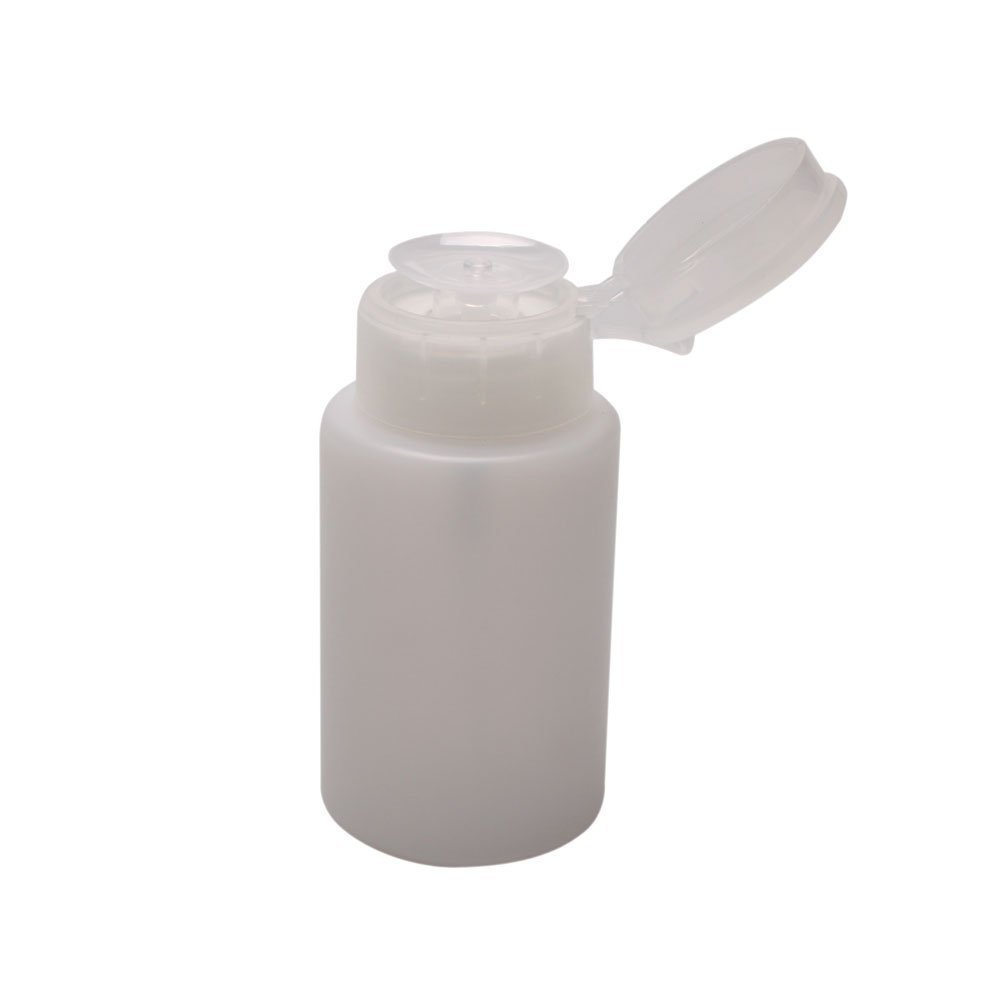emptybottle: (318, 230, 618, 862)
